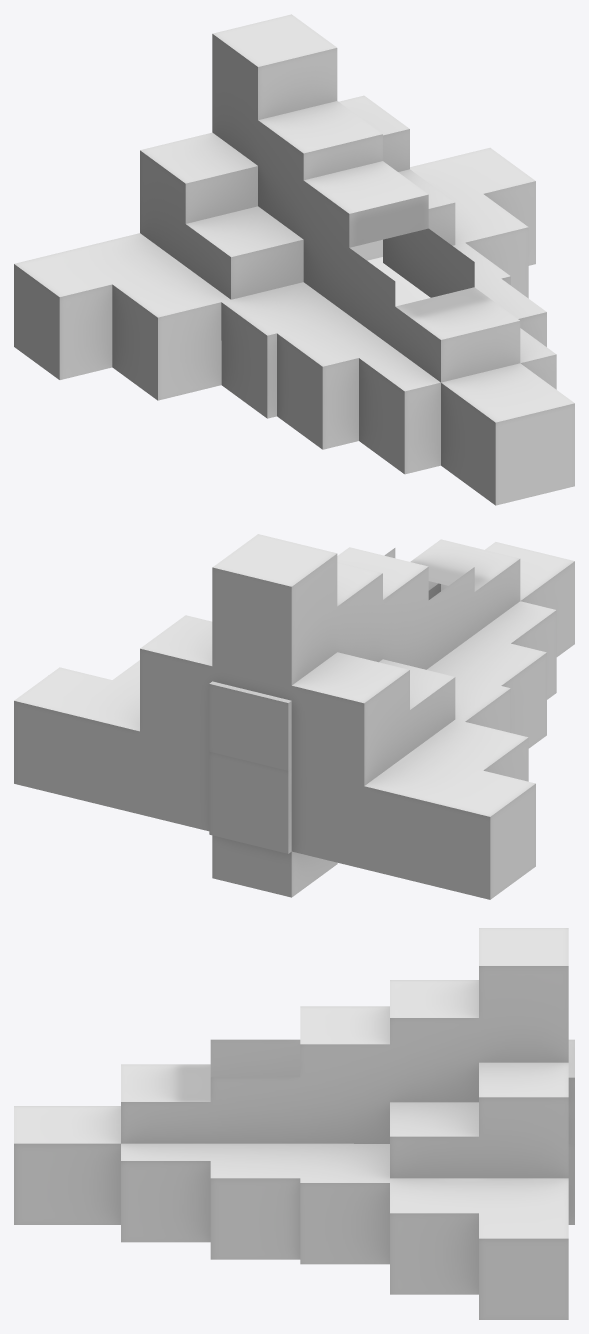
Rendered from Ship_Player_Body.FBX.
3 renders of one model, top to bottom at view 1: azimuth 30°, elevation 25°; view 2: azimuth 150°, elevation 25°; view 3: azimuth 270°, elevation 25°, orthographic. The views are drawn at different scales.
Visible parts, largest first — view 1: Ship_Player_Body; view 2: Ship_Player_Body; view 3: Ship_Player_Body.
Part boxes in pixels (x1,y1,x2,y2): Ship_Player_Body: [14, 14, 574, 505]; Ship_Player_Body: [14, 534, 574, 899]; Ship_Player_Body: [14, 928, 574, 1319].
Size of what is drawn, in the model's own units: 120 by 125 by 74.9.
